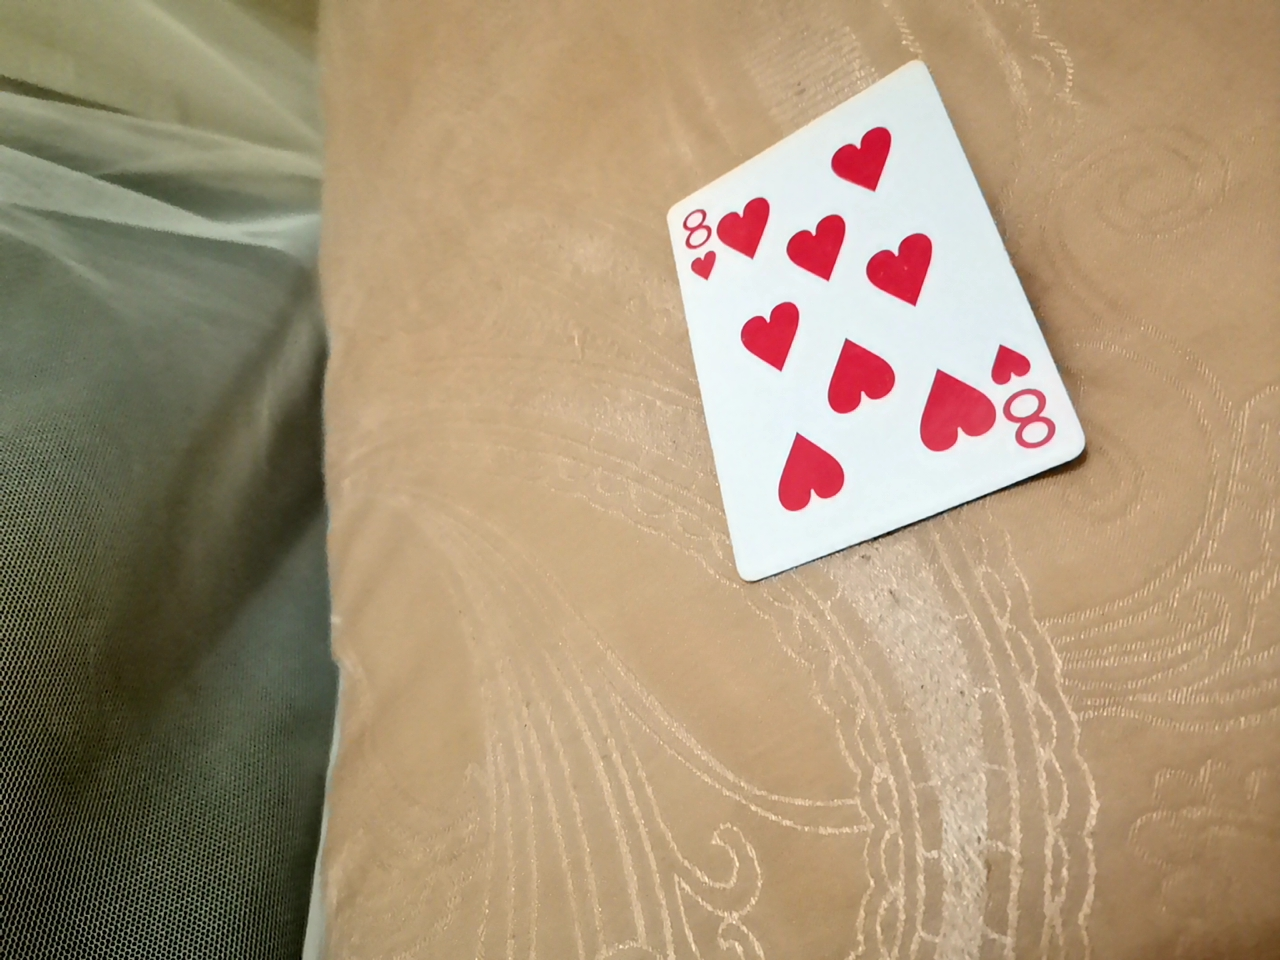hx 8: (646, 21, 1096, 587)
